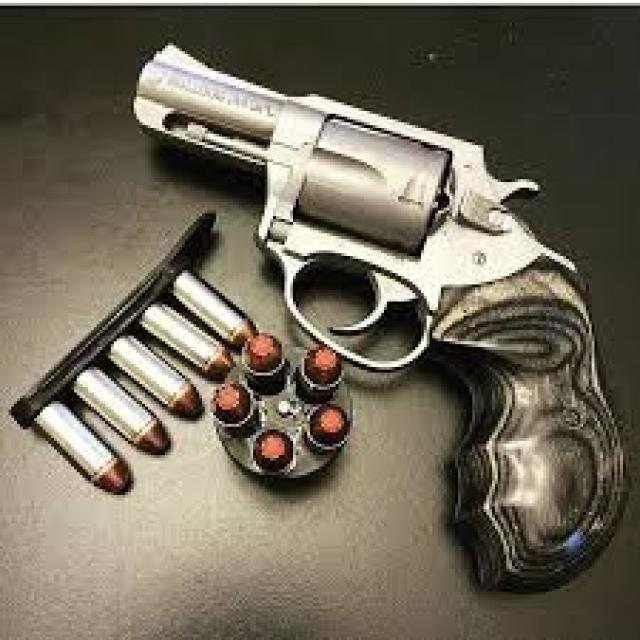Gun: (110, 21, 629, 594)
